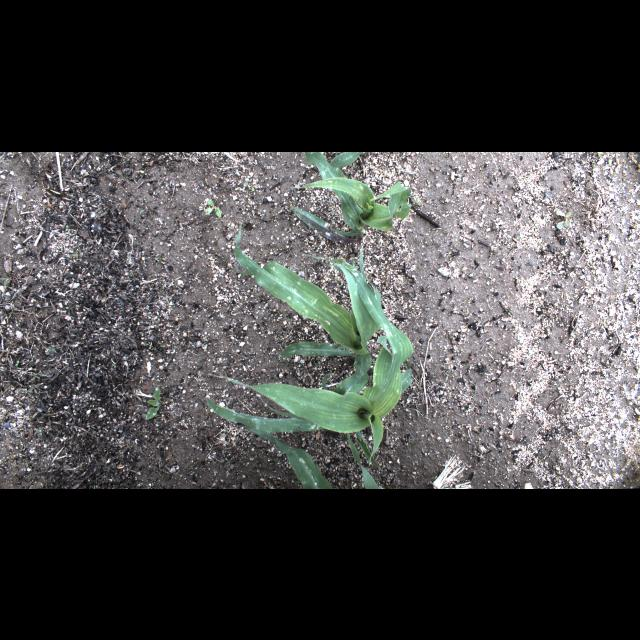crop: (206, 274, 414, 470), (233, 222, 379, 356), (290, 152, 410, 242), (246, 428, 338, 488), (348, 434, 378, 488)
weed: (144, 386, 168, 420), (592, 152, 620, 174), (0, 268, 24, 290), (202, 196, 224, 218), (552, 207, 574, 229), (24, 373, 40, 395), (239, 178, 259, 194), (402, 405, 426, 417), (440, 368, 456, 386), (42, 342, 56, 358), (124, 273, 140, 285), (58, 220, 72, 233), (511, 234, 524, 248), (156, 341, 172, 352), (152, 251, 164, 265), (11, 354, 23, 368), (586, 258, 600, 270), (34, 424, 48, 434), (595, 317, 609, 327), (70, 250, 86, 258), (140, 195, 152, 205), (106, 360, 118, 370), (140, 337, 152, 347), (138, 206, 152, 214)
